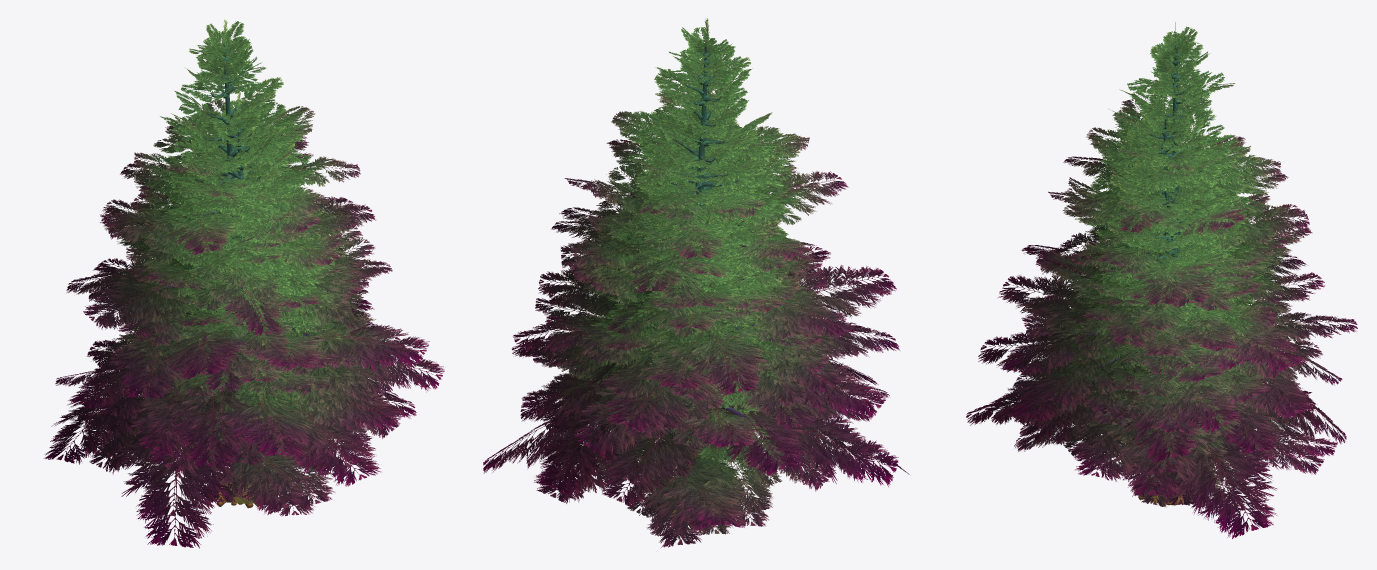
The model's file is hero-pine-near.glb.
3 views of the same model, side by side, from view 1: azimuth 30°, elevation 25°; view 2: azimuth 150°, elevation 25°; view 3: azimuth 270°, elevation 25° (orthographic). The views are drawn at different scales.
Visible parts, largest first — view 1: v2-leaf, v1-leaf, v3-leaf, v0-leaf, v2-wood, v1-wood; view 2: v2-leaf, v1-leaf, v0-leaf, v3-leaf, v2-wood; view 3: v2-leaf, v1-leaf, v3-leaf, v0-leaf, v2-wood.
Part boxes in pixels (left/top/right/bottom): v2-leaf: left=43, top=19, right=444, bottom=548; v1-leaf: left=68, top=91, right=405, bottom=465; v3-leaf: left=126, top=126, right=407, bottom=474; v0-leaf: left=77, top=162, right=416, bottom=516; v2-wood: left=168, top=43, right=318, bottom=506; v1-wood: left=190, top=122, right=272, bottom=508; v2-leaf: left=520, top=18, right=909, bottom=496; v1-leaf: left=483, top=86, right=889, bottom=507; v0-leaf: left=534, top=167, right=835, bottom=547; v3-leaf: left=512, top=140, right=874, bottom=459; v2-wood: left=637, top=44, right=794, bottom=523; v2-leaf: left=966, top=22, right=1357, bottom=458; v1-leaf: left=978, top=97, right=1324, bottom=538; v3-leaf: left=1002, top=145, right=1342, bottom=449; v0-leaf: left=1014, top=182, right=1337, bottom=510; v2-wood: left=1087, top=45, right=1265, bottom=505.
Bounding box in the file's own units: 20.19 × 24.28 × 18.68.
Materials: 2 (2 with a texture image).
